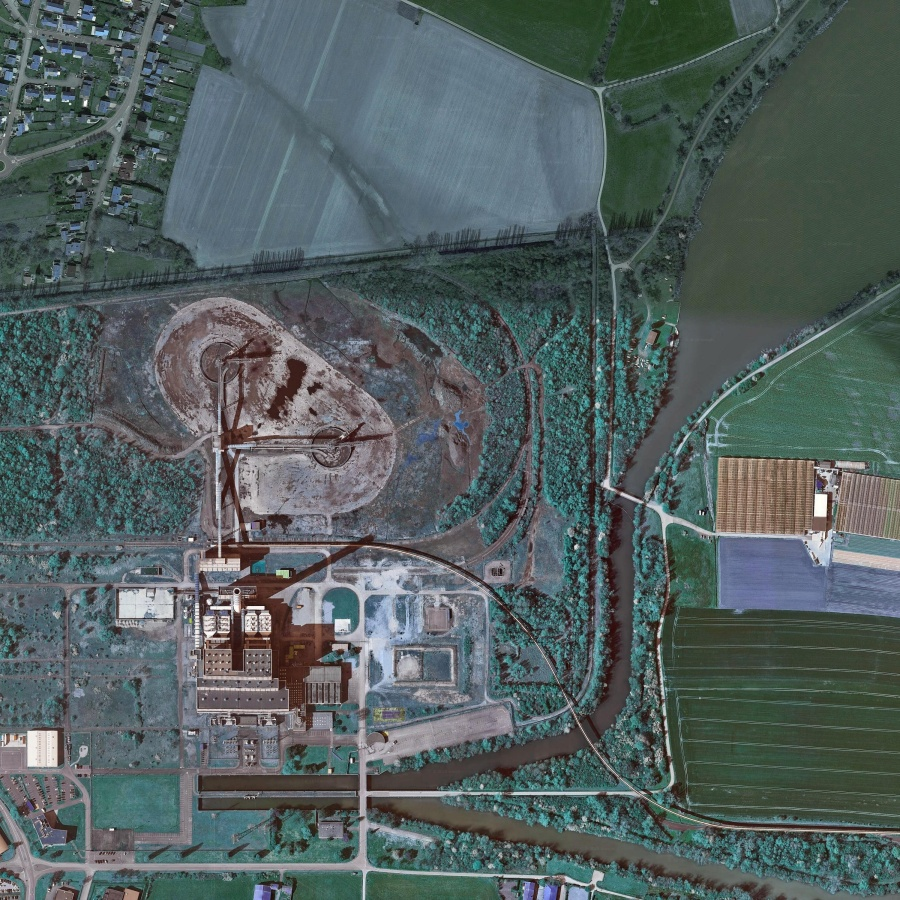PowerPlant: (122, 297, 395, 723)
